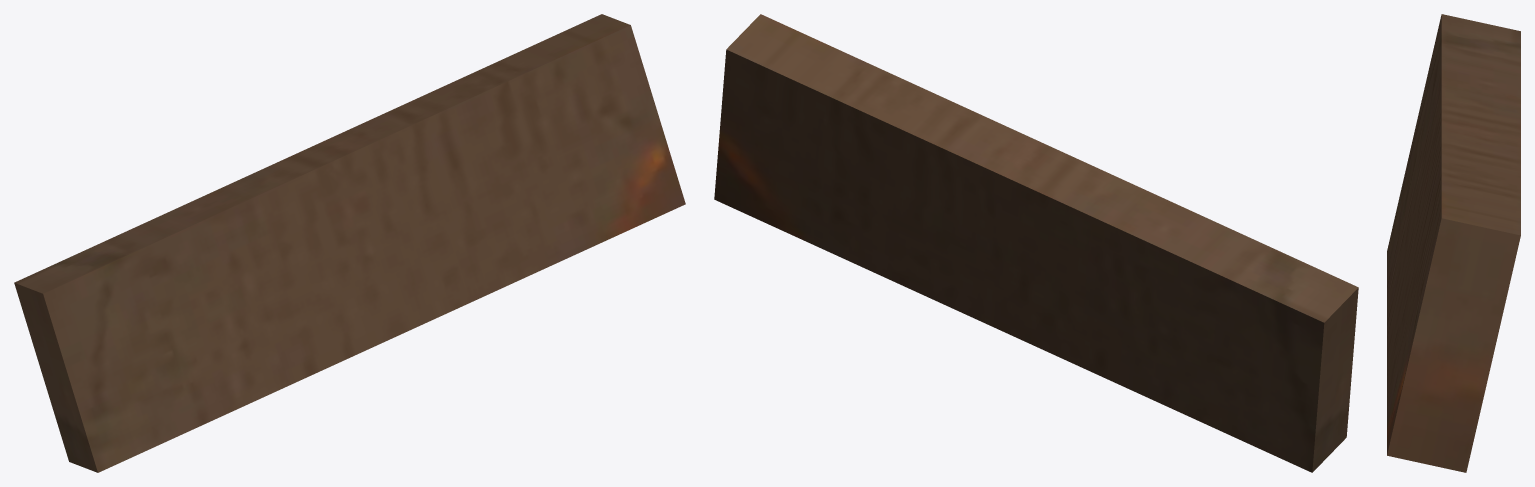
Rendered from fan_right__blade_4.glb.
3 views of the same model, side by side, from view 1: azimuth 30°, elevation 25°; view 2: azimuth 150°, elevation 25°; view 3: azimuth 270°, elevation 25° (orthographic). The views are drawn at different scales.
Visible parts, largest first — view 1: geometry_0; view 2: geometry_0; view 3: geometry_0.
Boxes of the visible parts, x1,y1,x2,y2 form: geometry_0: [14, 14, 685, 472]; geometry_0: [714, 14, 1358, 472]; geometry_0: [1387, 14, 1520, 472].
Size of the model in its own units: 0.0291 by 0.0138 by 0.00428.
1 material, 1 textured.
